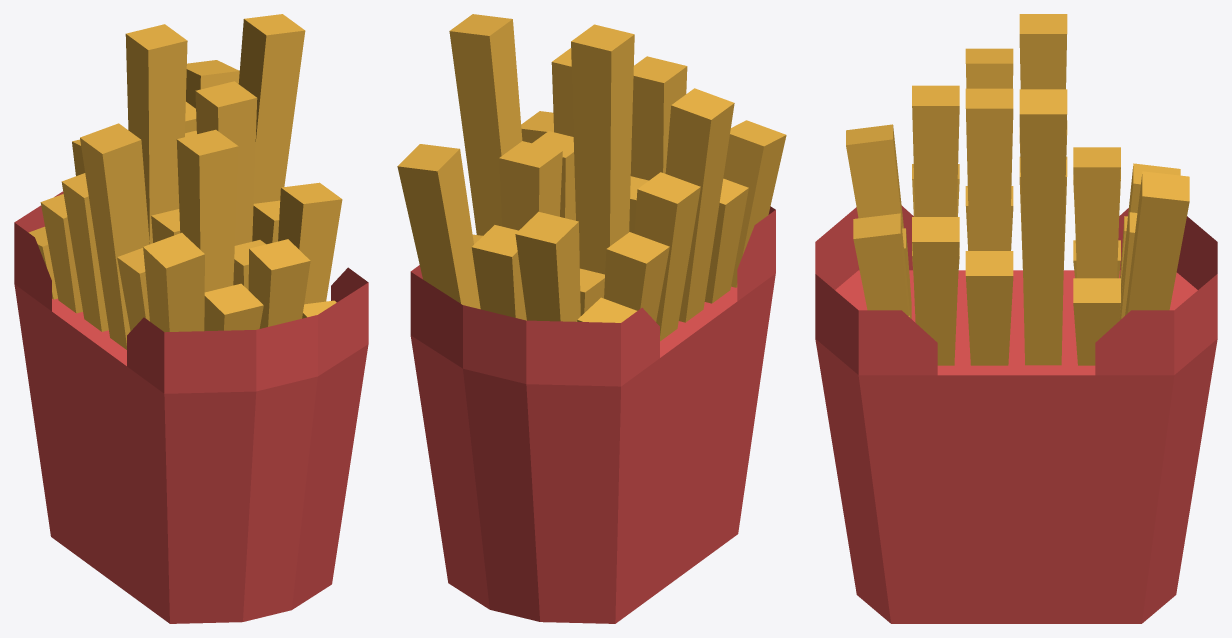
The model's file is fries.fbx.
3 renders of one model, left to right at view 1: azimuth 30°, elevation 25°; view 2: azimuth 150°, elevation 25°; view 3: azimuth 270°, elevation 25°, orthographic. The views are drawn at different scales.
Parts seen in each view (by area): view 1: fries (×2); view 2: fries (×2); view 3: fries (×2).
Boxes of the visible parts, x1,y1,x2,y2 form: fries (×2): (14,14,368,623); fries (×2): (397,14,786,623); fries (×2): (815,14,1217,623).
Size of the model in its own units: 1.83 by 3.98 by 2.65.
